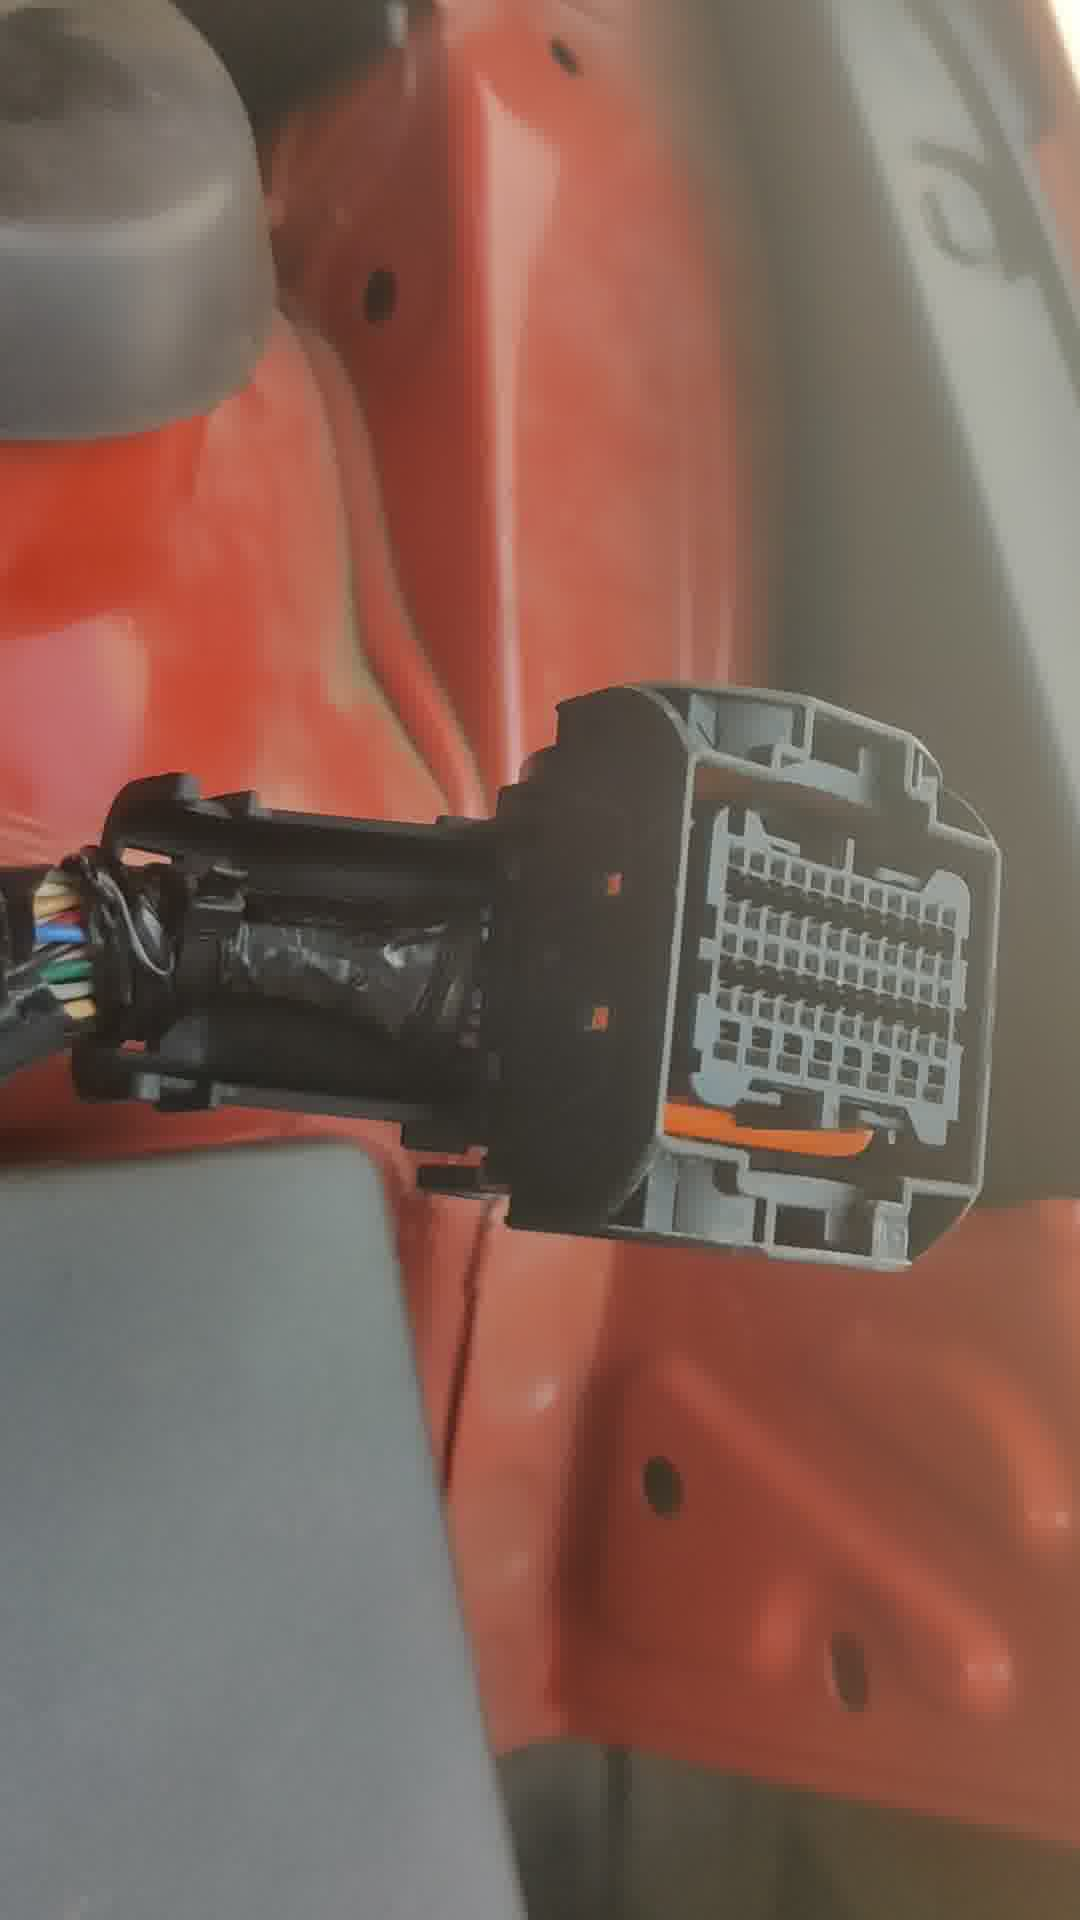connector: (496, 673, 998, 1275)
